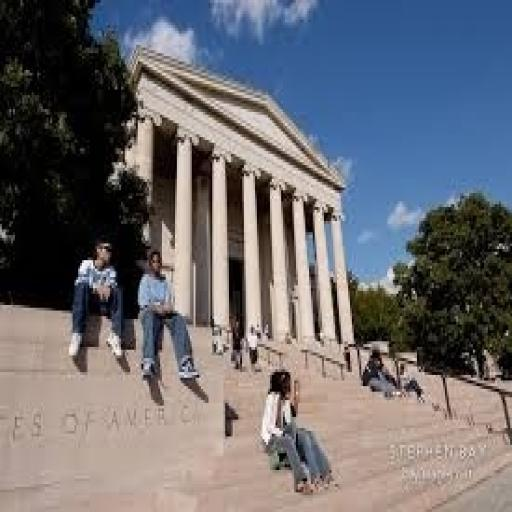sitting: (257, 364, 335, 495), (134, 246, 201, 384), (65, 232, 127, 364)
